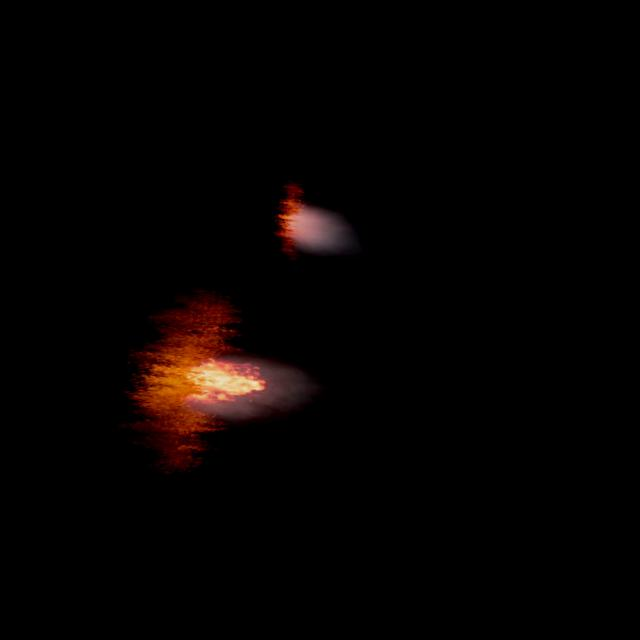fire: (176, 352, 272, 414)
smoke: (187, 351, 326, 435), (279, 200, 362, 260)
